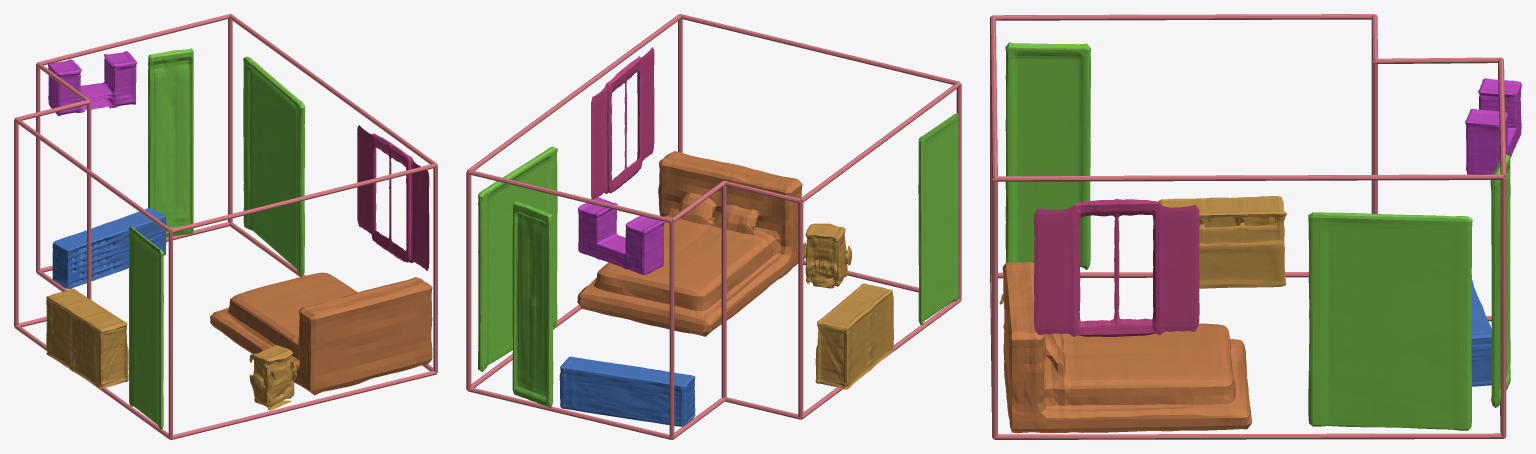
File: Ours-Beechwood_1_int-00094-rgb.glb
3 renders of one model, left to right at view 1: azimuth 30°, elevation 25°; view 2: azimuth 150°, elevation 25°; view 3: azimuth 270°, elevation 25°, orthographic. The views are drawn at different scales.
Parts seen in each view (by area): view 1: world; view 2: world; view 3: world.
Boxes of the visible parts, x1=… form: world: x1=14, y1=14, x2=437, y2=439; world: x1=466, y1=14, x2=961, y2=439; world: x1=990, y1=14, x2=1521, y2=439.
Size of the model in its own units: 3.5 by 2.5 by 4.54.
